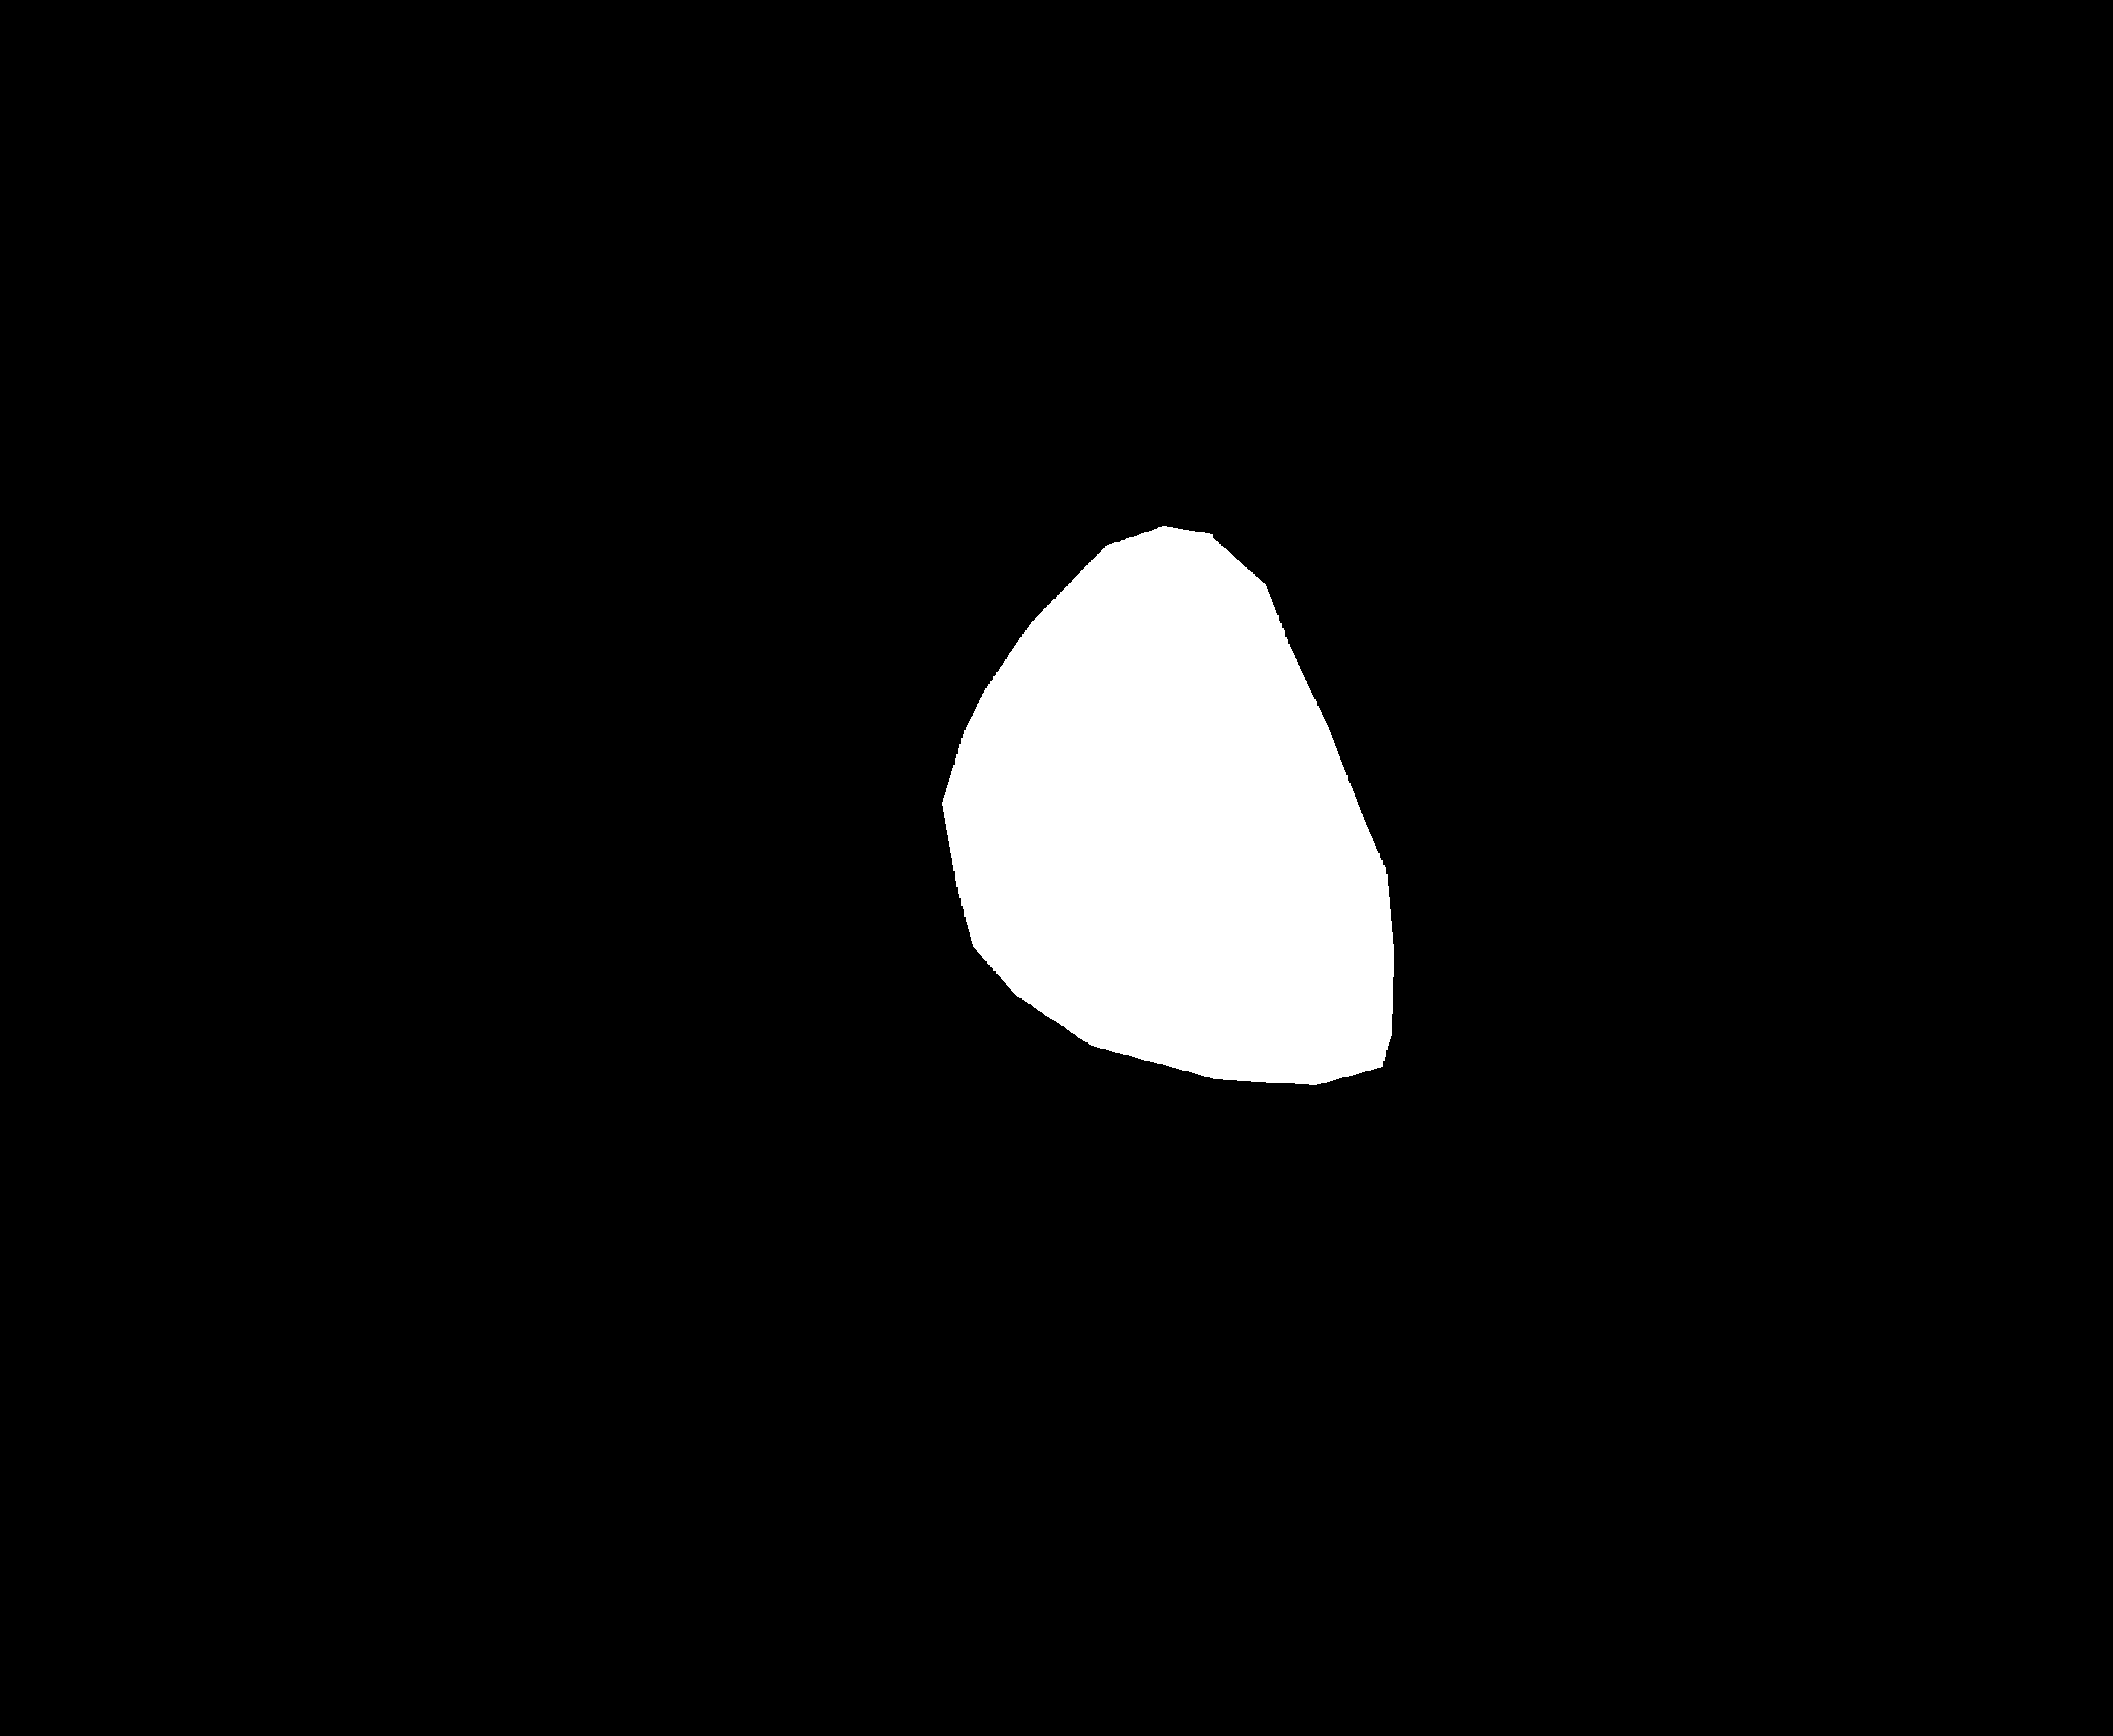heart: (949, 576, 1383, 1157)
left_lung: (530, 161, 1023, 1266)
right_lung: (1155, 177, 1623, 1266)
